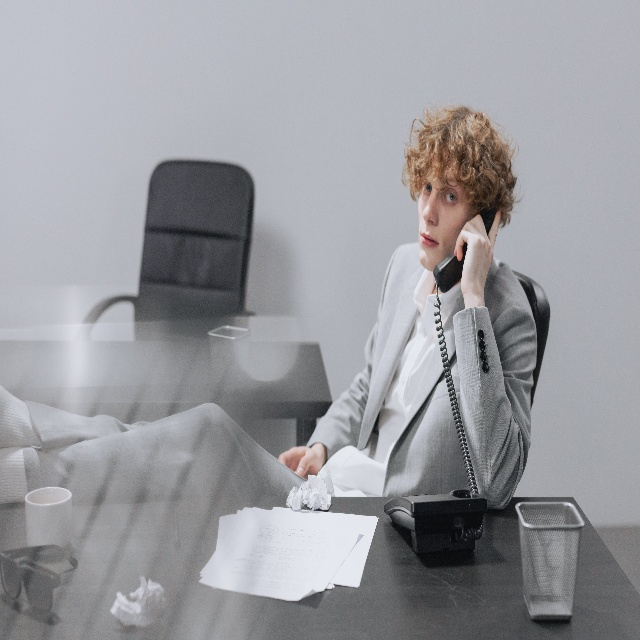Gafas: (0, 543, 78, 614)
Sin_guantes: (454, 208, 502, 296), (278, 444, 321, 479)
